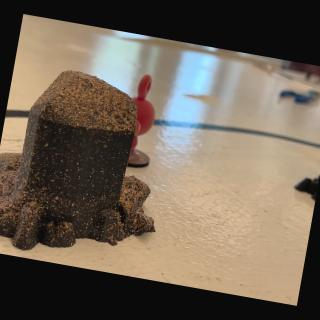teletubby: (130, 75, 155, 155)
